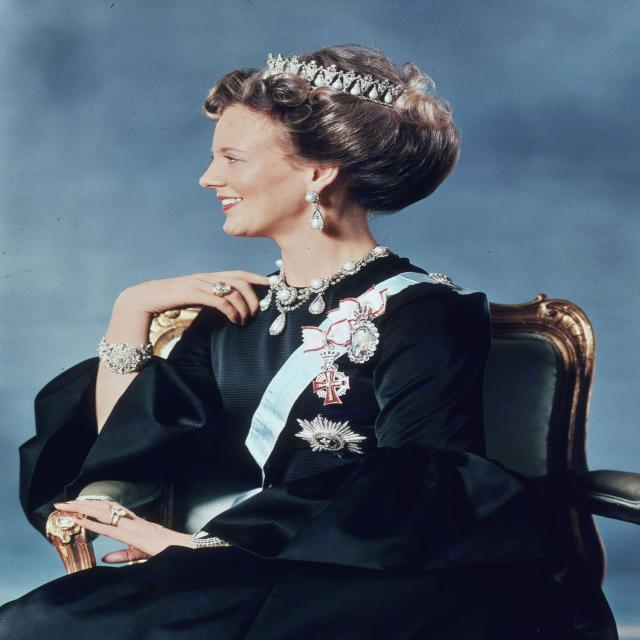Earring: (298, 175, 334, 240)
